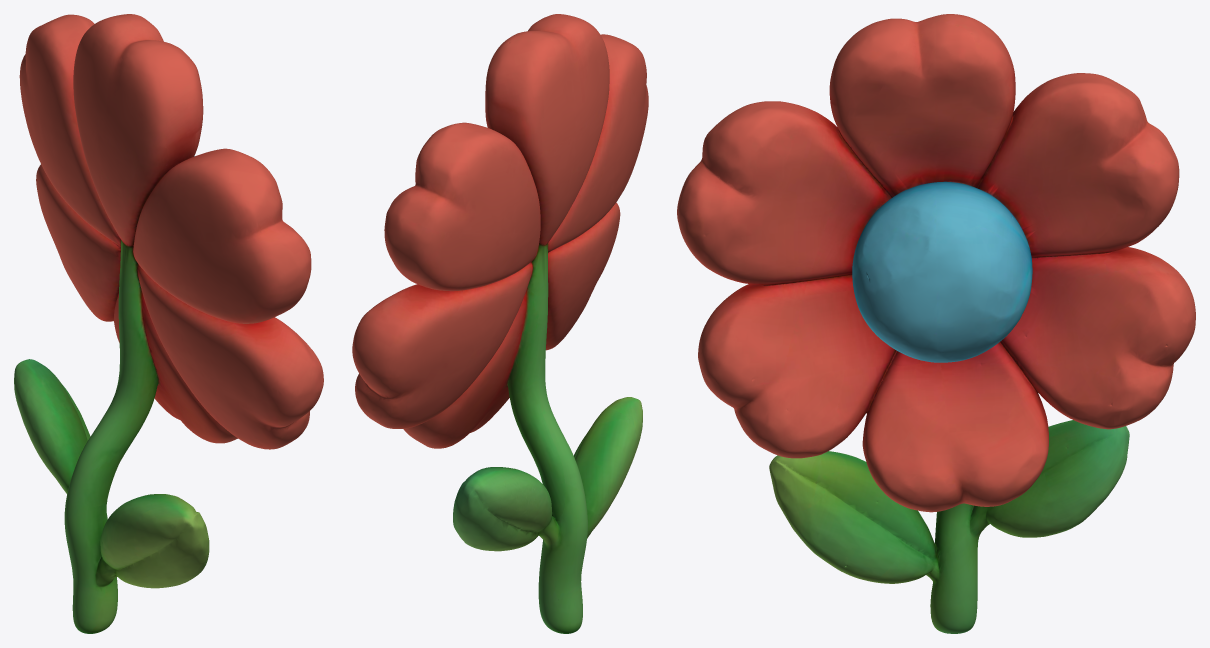
Rendered from red.glb.
3 views of the same model, side by side, from view 1: azimuth 30°, elevation 25°; view 2: azimuth 150°, elevation 25°; view 3: azimuth 270°, elevation 25° (orthographic). The views are drawn at different scales.
Parts seen in each view (by area): view 1: tripo_node_4030e726-6508-437b-a072-291562785a1e; view 2: tripo_node_4030e726-6508-437b-a072-291562785a1e; view 3: tripo_node_4030e726-6508-437b-a072-291562785a1e.
Boxes of the visible parts, bbox=[...] form: tripo_node_4030e726-6508-437b-a072-291562785a1e: bbox=[14, 14, 323, 633]; tripo_node_4030e726-6508-437b-a072-291562785a1e: bbox=[352, 14, 648, 633]; tripo_node_4030e726-6508-437b-a072-291562785a1e: bbox=[677, 14, 1195, 633].
Size of the model in its own units: 0.293 by 0.9999 by 0.7476.
Materials: 1 (1 with a texture image).
